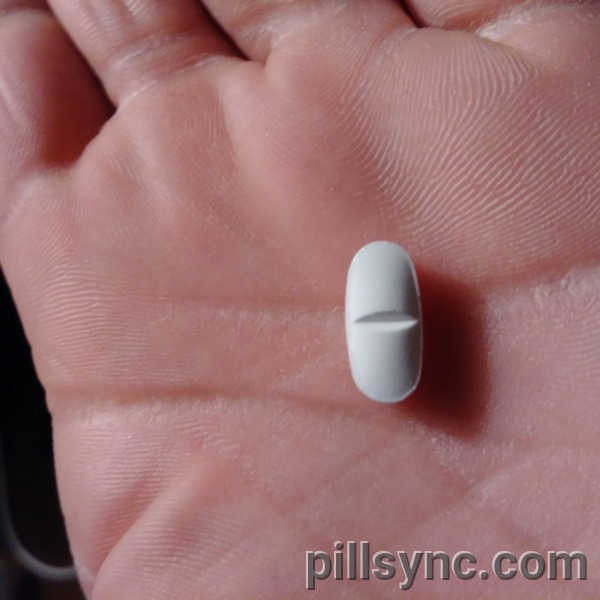Acetaminophen 325 MG Oral Tablet: (334, 229, 444, 419)
